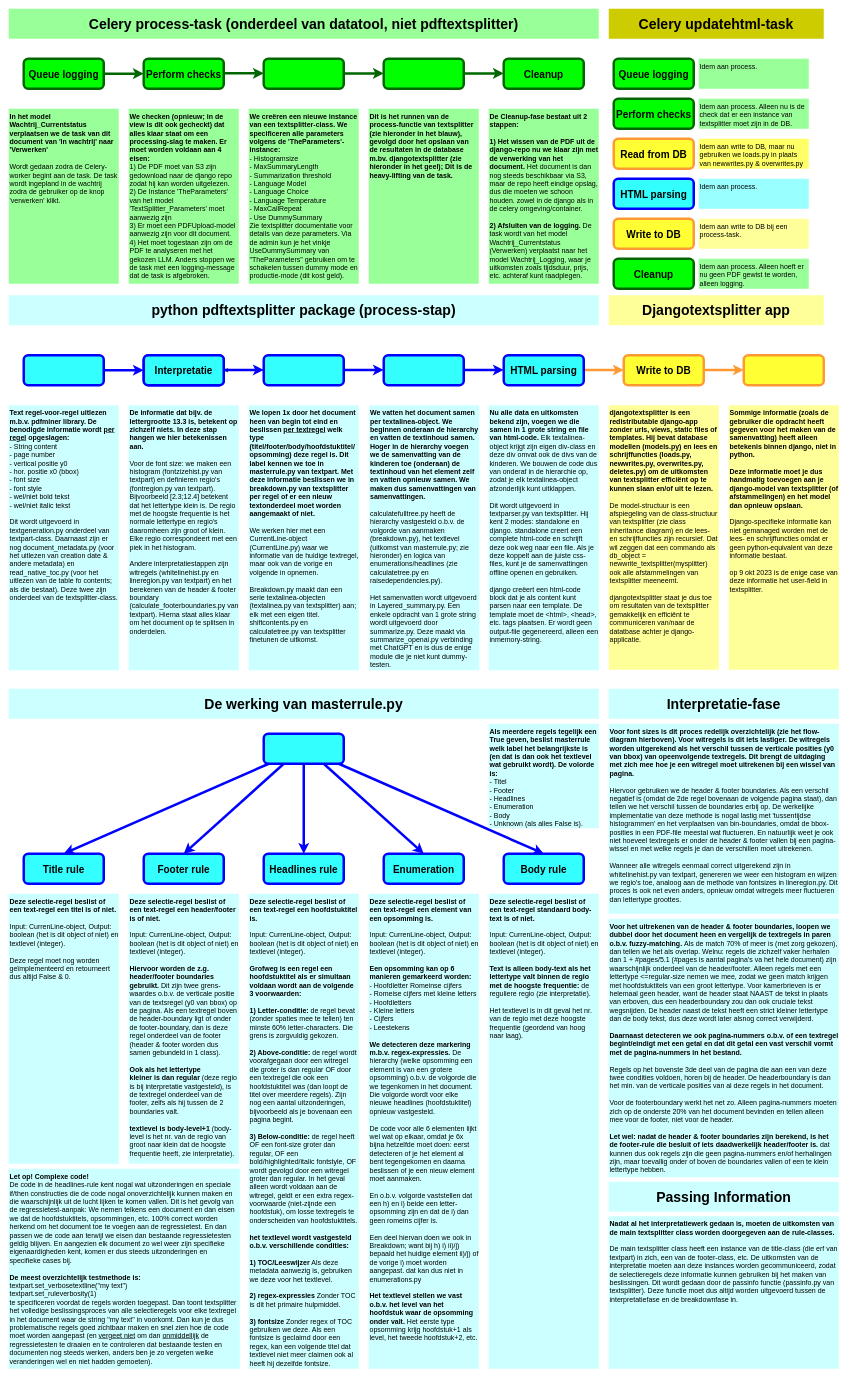
The diagram is 847 pixels wide and 1393 high, and some of its shapes have lost their labels. Each missing label, with the box of its shape:
Add django-info: (742, 354, 825, 386)
Breakdown: (262, 354, 345, 386)
Masterrule: (262, 732, 345, 765)
Parameters: (262, 57, 345, 90)
PDF inlezen: (22, 354, 105, 386)
Process: (382, 57, 465, 90)
Samenvatten: (382, 354, 465, 386)
